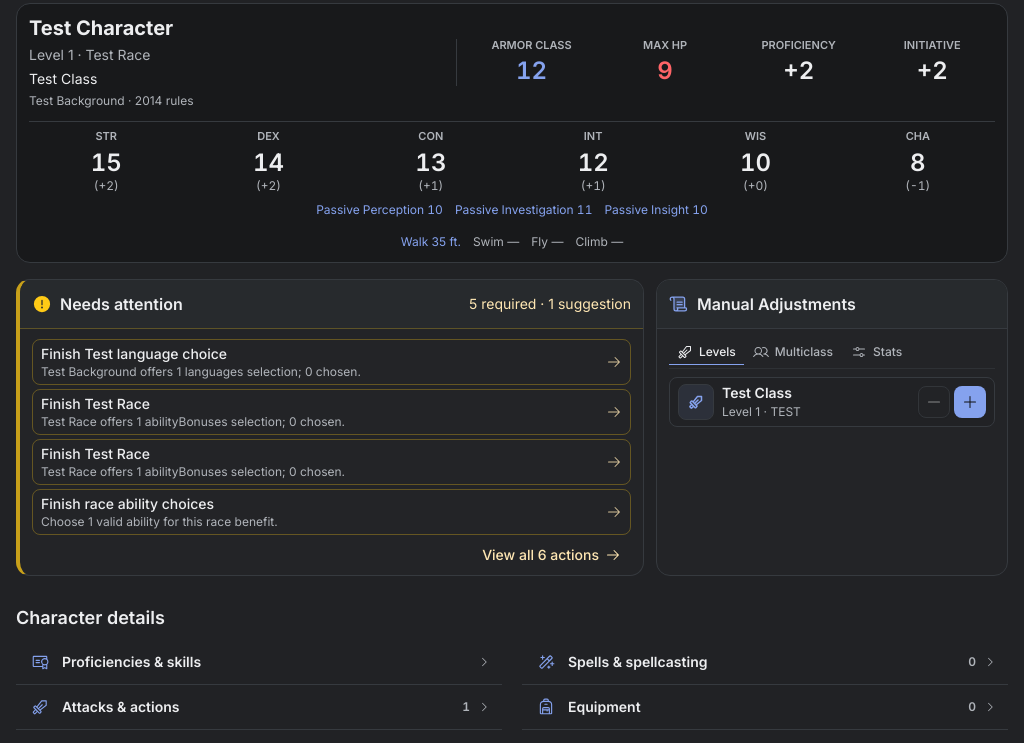
Test case: BuildOverviewPage › formats derived overview labels without rewriting the saved proficiencies
The image size is (1024, 743).
What coordinates should you click on to do the following:
click the heading "Proficiencies & skills"
I would click on:
 (132, 661)
Its box is [31,653,490,671].
(page scrolled)
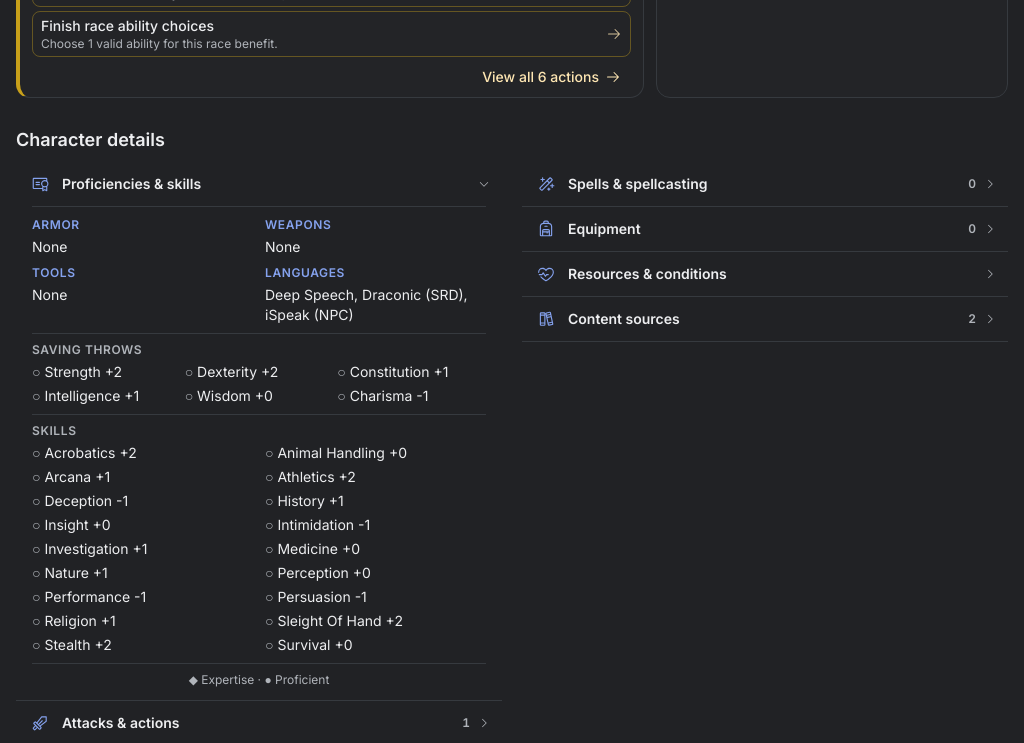
Expected: the text "Deep Speech, Draconic (SRD), iSpeak (NPC)" is shown, [265,285,486,325]
Expected: the text "○ Strength +2" is shown, [32,363,122,380]
